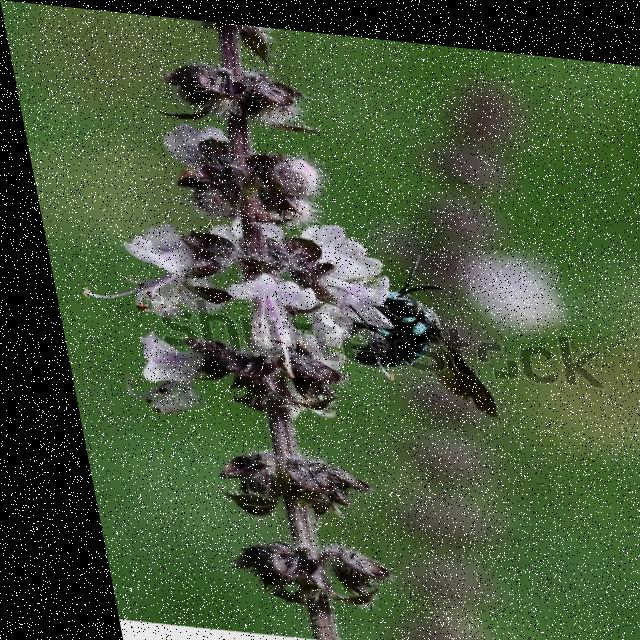Thyreus: (304, 230, 507, 418)
